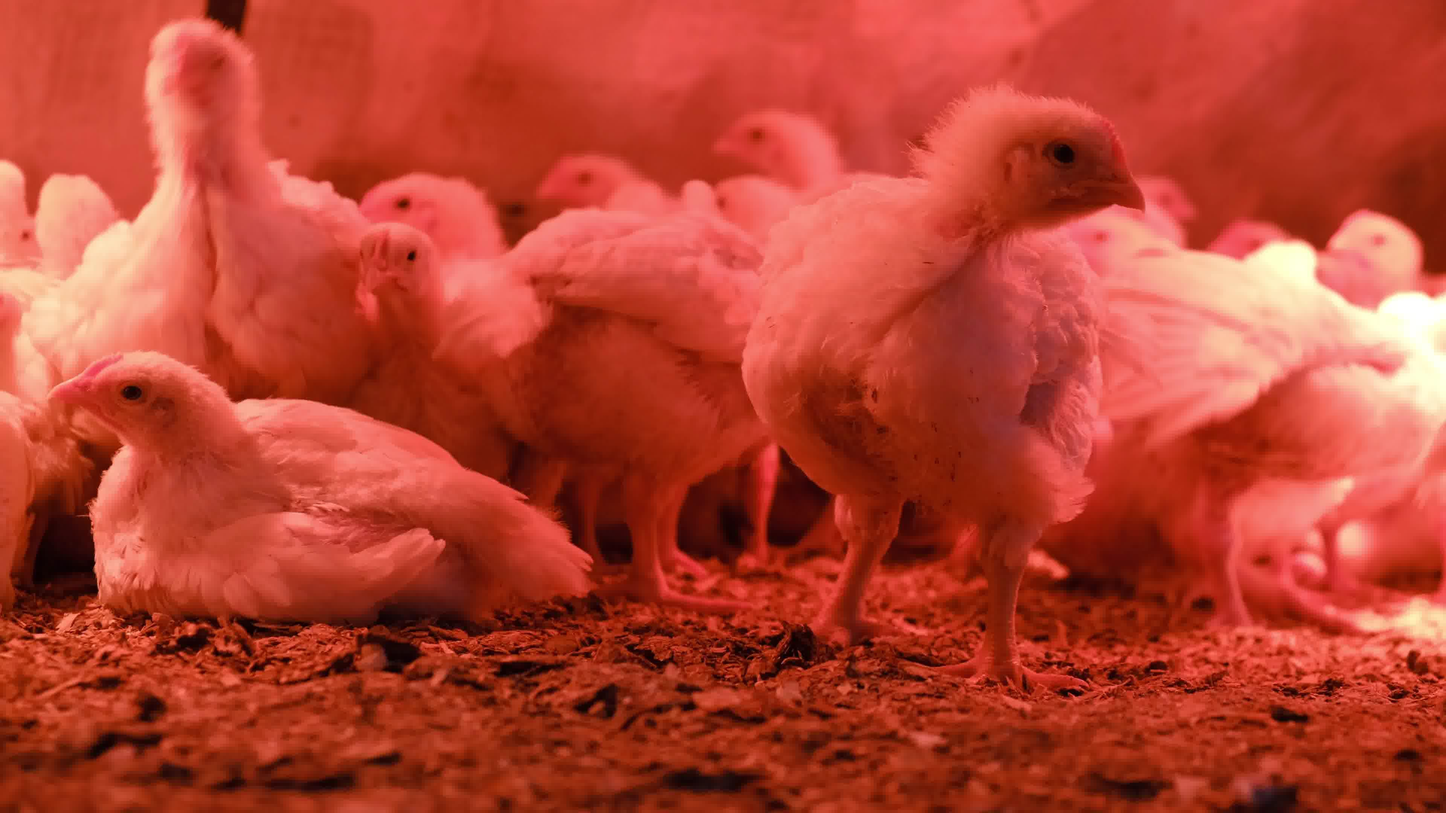AbNormal: (19, 359, 572, 615)
Normal: (731, 77, 1143, 702), (1126, 247, 1446, 629), (514, 192, 804, 610), (88, 15, 424, 343), (329, 203, 542, 425), (695, 109, 845, 237), (1314, 201, 1438, 295), (363, 164, 495, 239), (531, 141, 657, 209)
